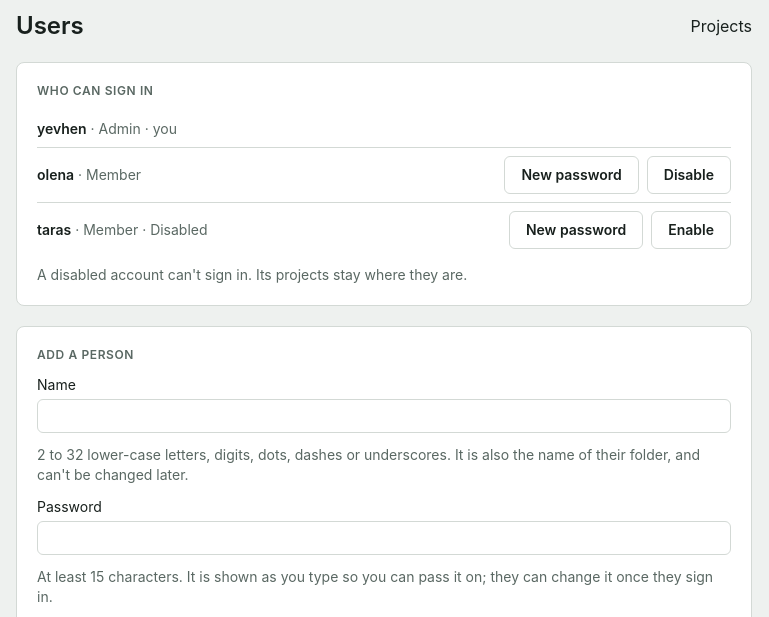
Test case: Users › gives someone a new password, and says they were signed out
Click the button with aria-label "New password for olena". click: (572, 175)
box: x1=504 y1=156 x2=639 y2=194
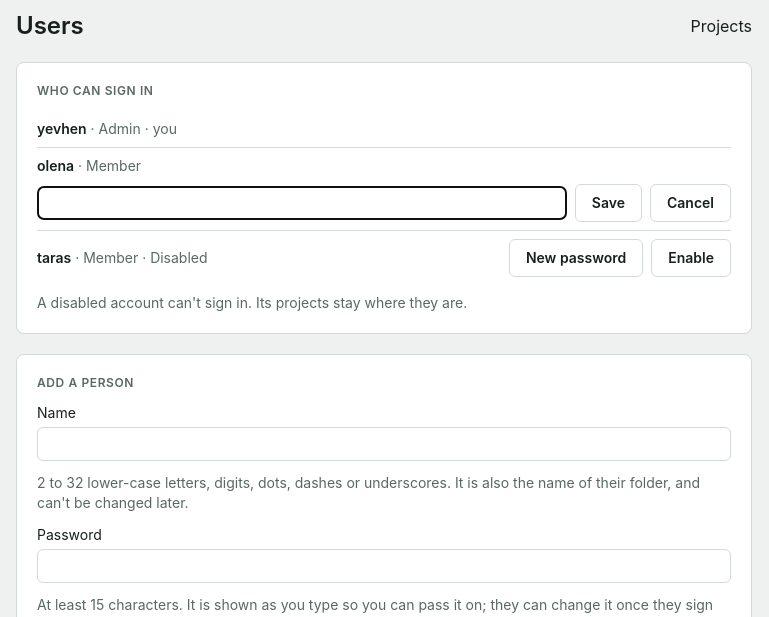
Type "we walked to the lake in may" into the field named "New password for olena". click: (302, 203)
box: x1=37 y1=186 x2=567 y2=220
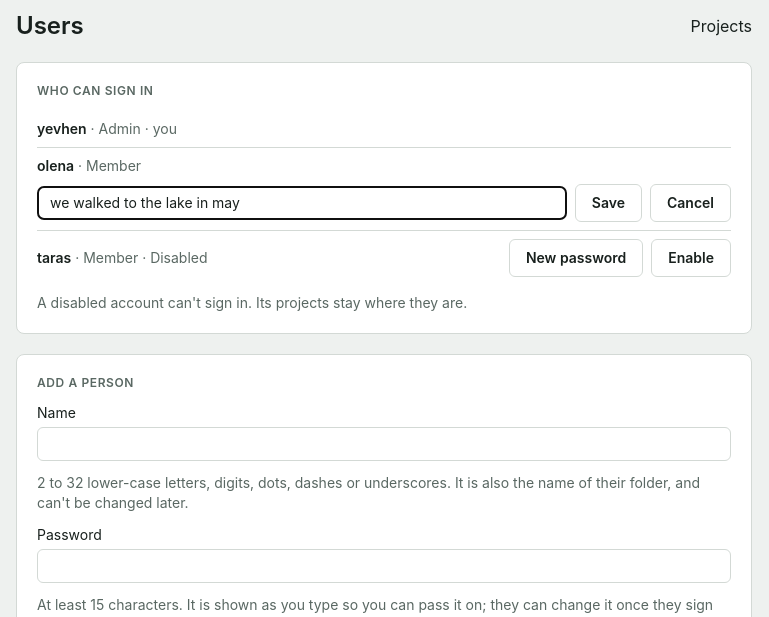
Click the button "Save". click: (608, 203)
box: x1=575 y1=184 x2=642 y2=222
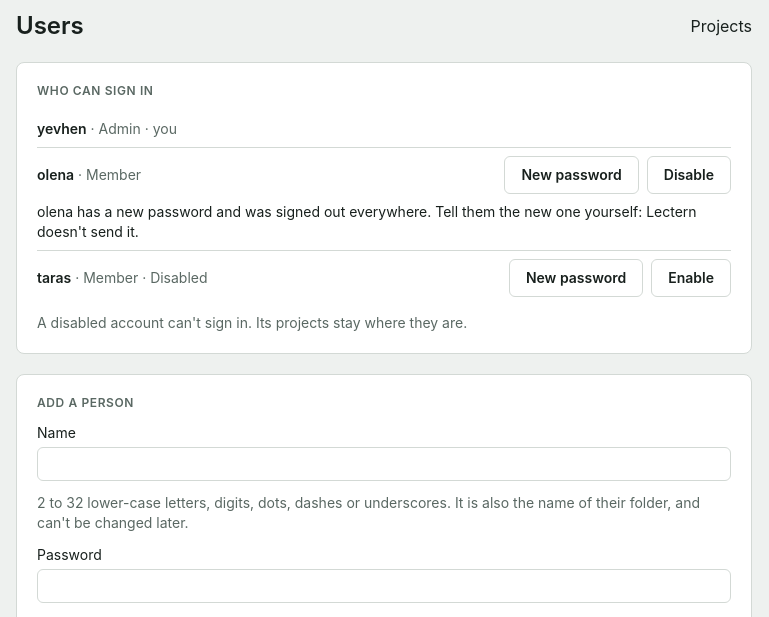
Now the text "signed out everywhere" is shown, box x1=37 y1=203 x2=697 y2=240
